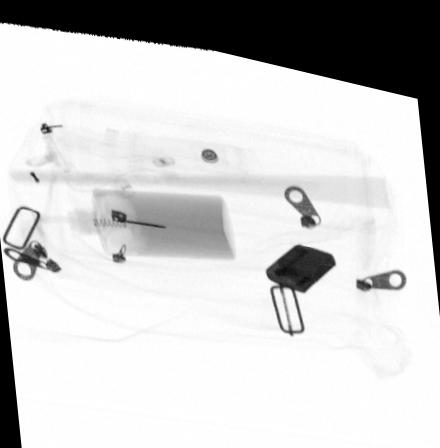Lighter: (265, 228, 337, 279)
